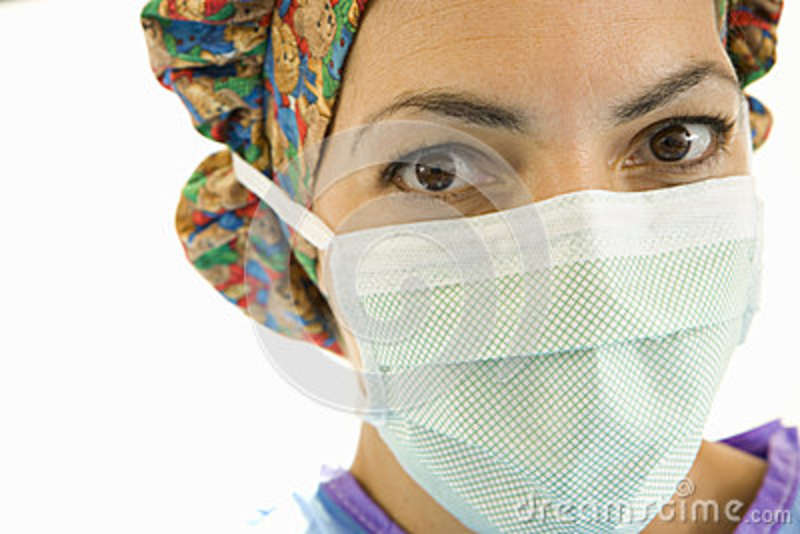mask: (319, 217, 776, 527)
